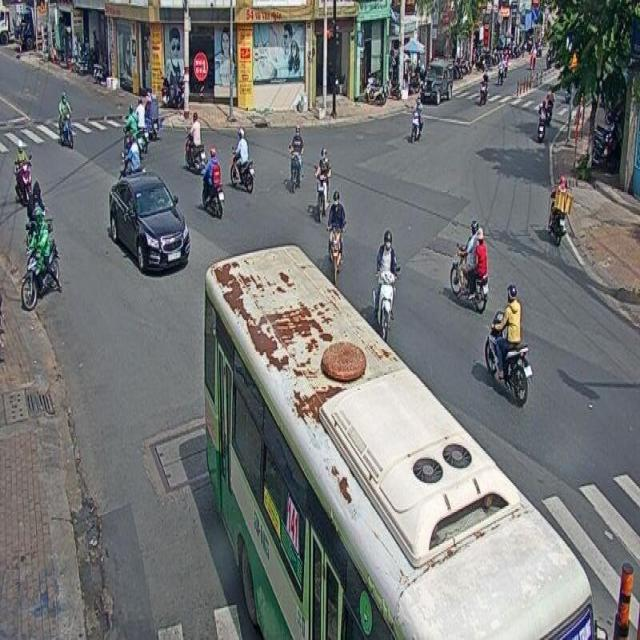bus: (204, 242, 593, 640)
car: (109, 172, 190, 274)
motorcycle: (484, 284, 530, 406), (450, 218, 488, 314), (21, 207, 60, 300), (372, 227, 400, 340), (328, 189, 347, 282), (230, 128, 256, 192), (202, 146, 223, 221), (185, 111, 207, 177), (314, 146, 332, 224), (14, 139, 32, 207), (287, 123, 304, 192), (58, 90, 74, 152)
